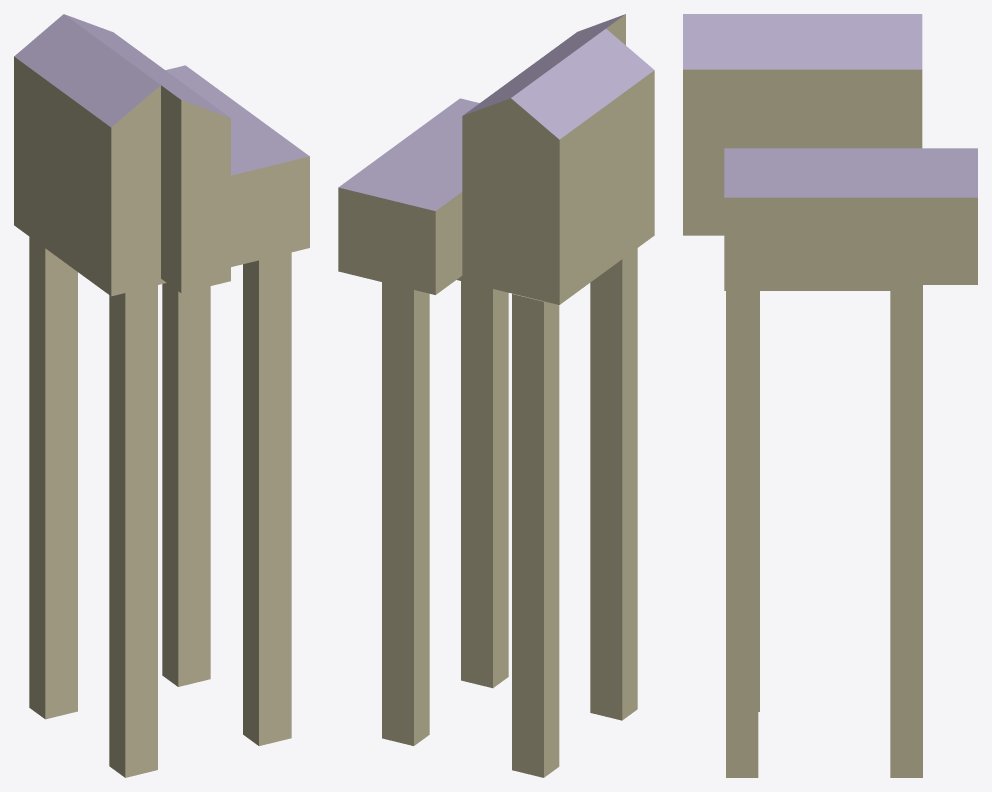
Rendered from house.glb.
The picture shows the model from 3 angles, left to right: view 1: azimuth 30°, elevation 25°; view 2: azimuth 150°, elevation 25°; view 3: azimuth 270°, elevation 25°; orthographic projection. The views are drawn at different scales.
Visible parts, largest first — view 1: Cylinder.004; view 2: Cylinder.004; view 3: Cylinder.004.
Boxes of the visible parts, x1,y1,x2,y2 form: Cylinder.004: (14, 14, 309, 777); Cylinder.004: (338, 14, 654, 777); Cylinder.004: (683, 14, 977, 777).
Bounding box in the file's own units: 0.3268 × 1.08 × 0.4123.
